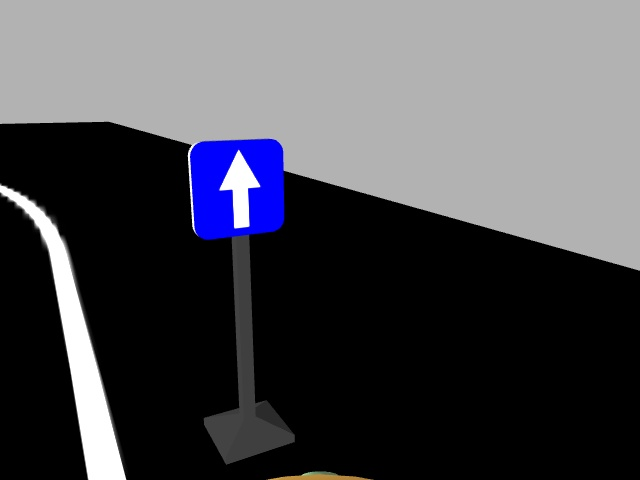OneWay: (186, 138, 284, 234)
